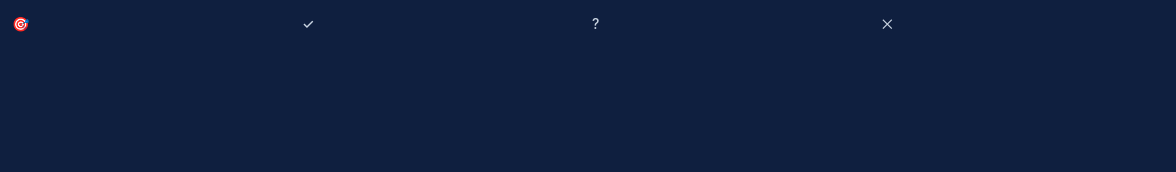
Test: FeedbackWidget Component › Inline View › should show submit button only after feedback selection in inline view
Expected: the text "Submit Feedback" is not shown
After selection, submit button appears
Click the button "🎯": (21,24) [12,12,294,36]
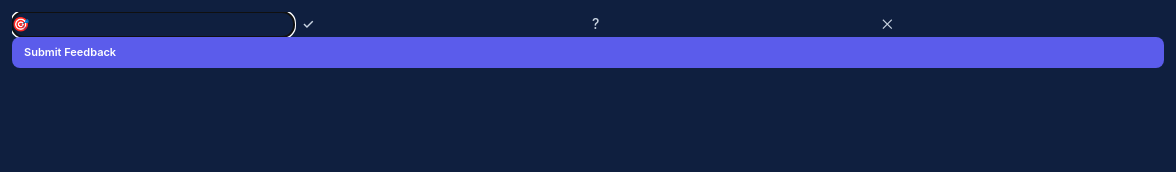
Expected: the button "Submit Feedback" is shown, [12,36,1164,68]
